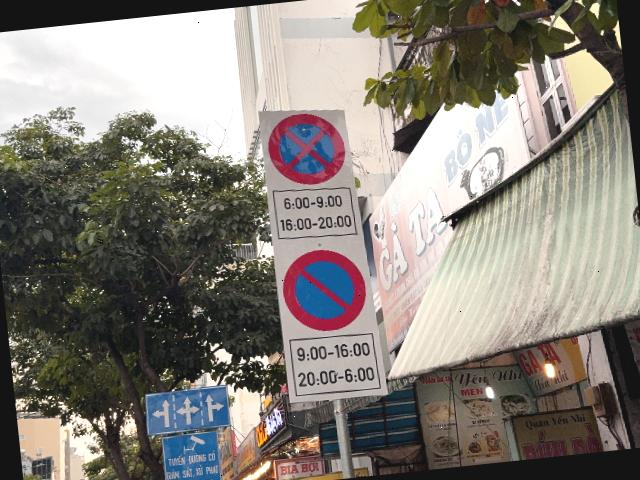cam-do-xe: (279, 246, 371, 336)
cam-dung-va-do-xe: (264, 108, 350, 190)
